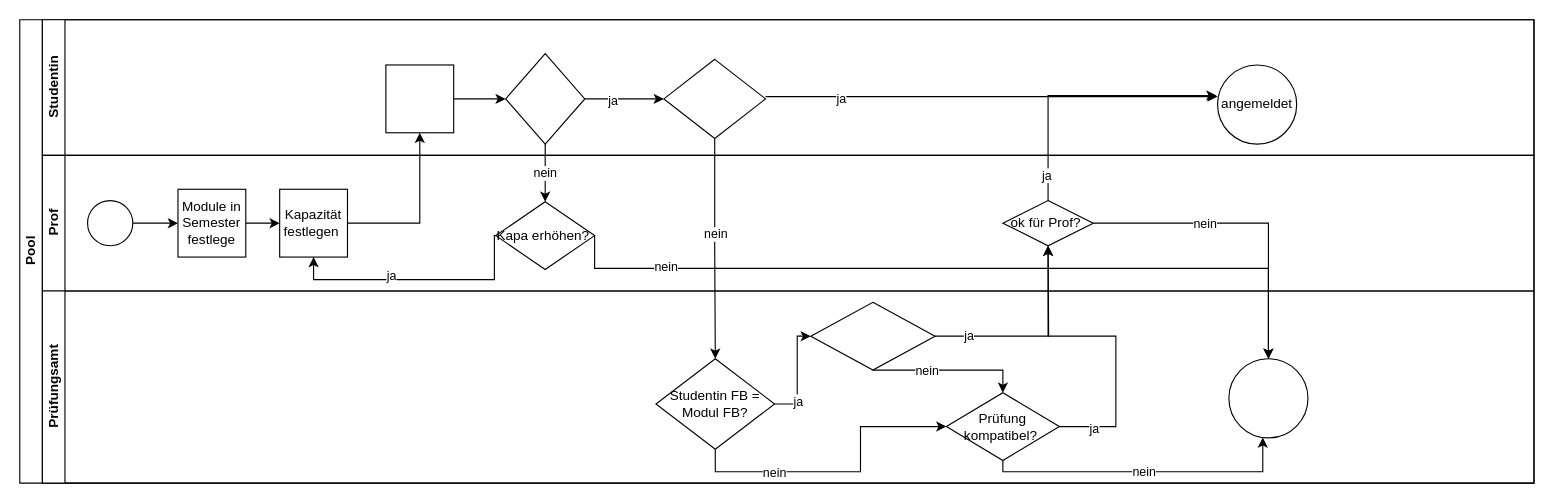
The diagram is 1554 pixels wide and 503 high, and some of its shapes have lost their labels. Each missing label, with the box of its shape:
anmelden für Modul: (385, 64, 454, 133)
Kapa vorhanden: (505, 53, 585, 144)
nicht an-gemeldet: (1228, 358, 1308, 438)
Prüfungsordnung gültig?: (810, 301, 935, 370)
Semester Studentin = Semester Mudul?: (663, 58, 766, 138)
